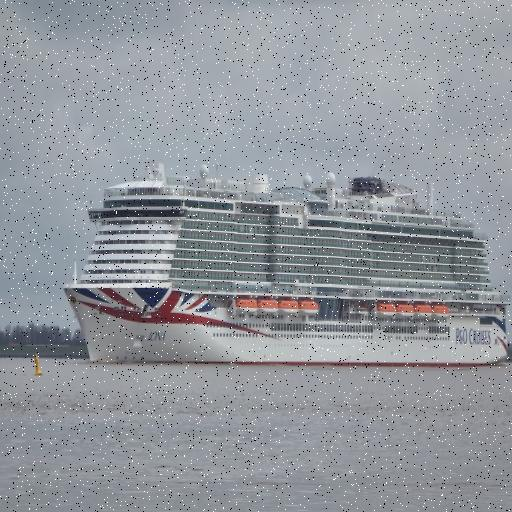cruises: (61, 145, 512, 376)
